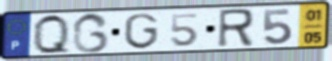5: (261, 7, 294, 46), (168, 12, 201, 48)
G: (71, 12, 111, 55), (123, 11, 161, 50)
Q: (31, 12, 73, 56)
R: (215, 7, 256, 50)
